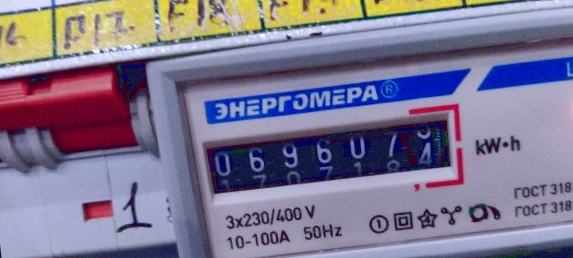0: (346, 129, 367, 161), (212, 148, 232, 177)
4: (414, 137, 434, 168)
6: (246, 143, 266, 173), (313, 134, 333, 164)
7: (380, 126, 402, 159)
9: (279, 139, 300, 169)
screen: (188, 98, 472, 211)
